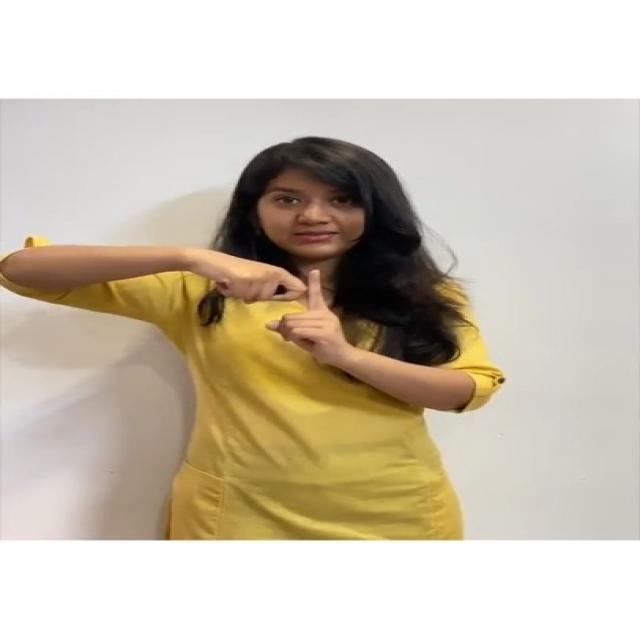K: (185, 238, 382, 382)
